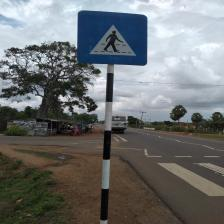blueboard: (75, 9, 149, 66)
crossing: (156, 161, 223, 197)
